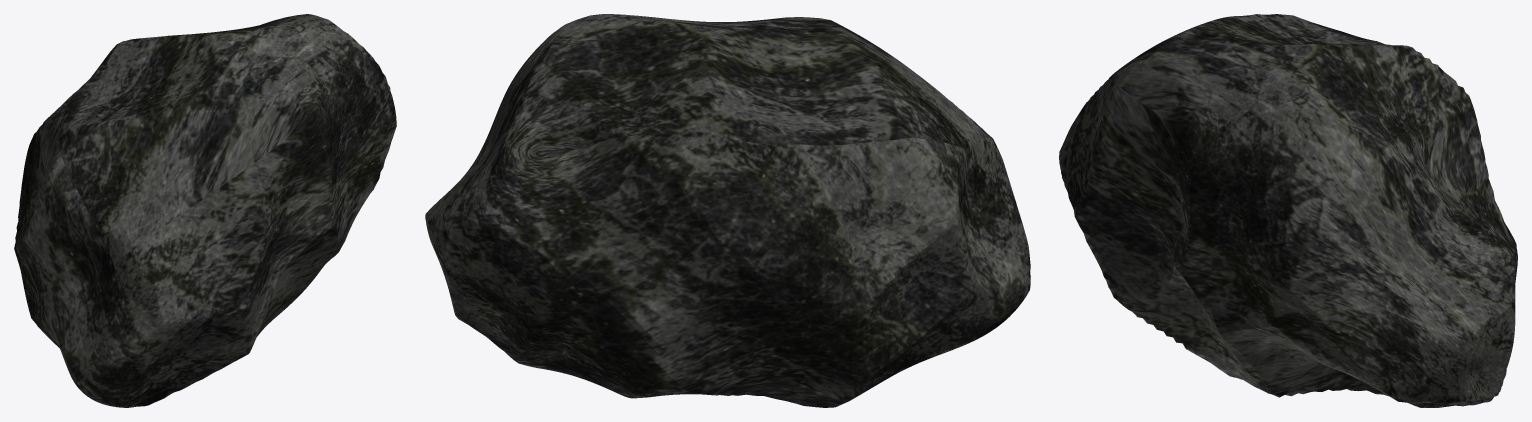
File: rockModel.obj
The picture shows the model from 3 angles, left to right: view 1: azimuth 30°, elevation 25°; view 2: azimuth 150°, elevation 25°; view 3: azimuth 270°, elevation 25°; orthographic projection. The views are drawn at different scales.
Visible parts, largest first — view 1: Cube; view 2: Cube; view 3: Cube.
Part boxes in pixels (left/top/right/bottom): Cube: left=14, top=14, right=396, bottom=407; Cube: left=425, top=14, right=1030, bottom=407; Cube: left=1059, top=14, right=1517, bottom=407.
Size of the model in its own units: 4.12 by 2.98 by 3.53.
1 material, 1 textured.
